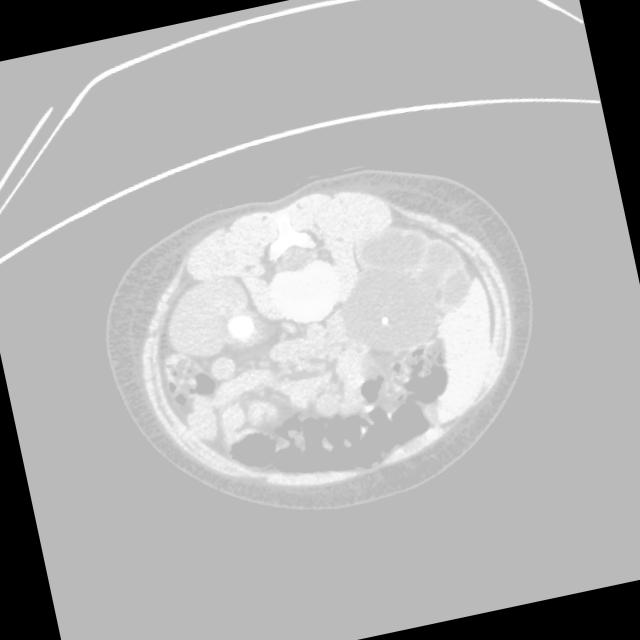STONE: (190, 333, 449, 521)
